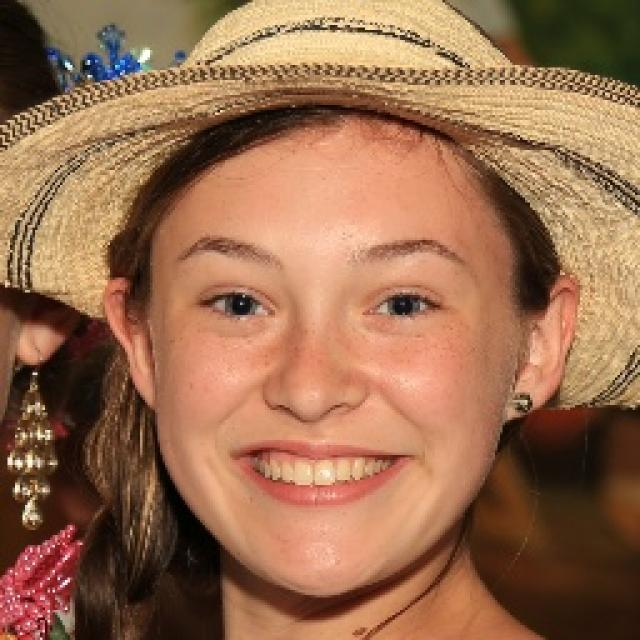earlobe: (16, 319, 57, 366), (505, 374, 542, 422), (128, 365, 158, 410)
eye: (204, 289, 274, 325), (365, 288, 446, 319)
nose: (270, 401, 362, 434)
wholeear: (505, 274, 580, 422), (104, 279, 158, 410)
